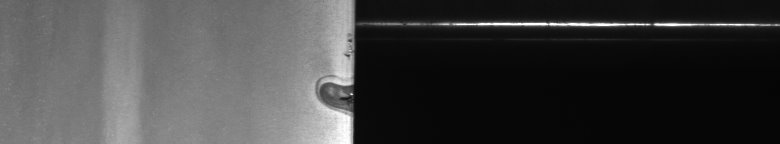hb: (309, 64, 344, 120)
